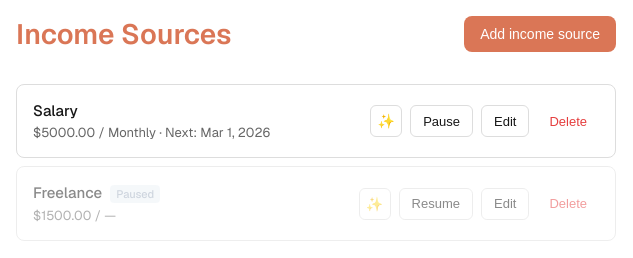
Test: IncomePage › toggles resume to pause when clicking resume button on paused source
Expected: the text "Freelance" is shown, x1=33 y1=183 x2=102 y2=202
Click the button with aria-label "Resume Freelance" at (436, 204), box x1=399 y1=188 x2=473 y2=220
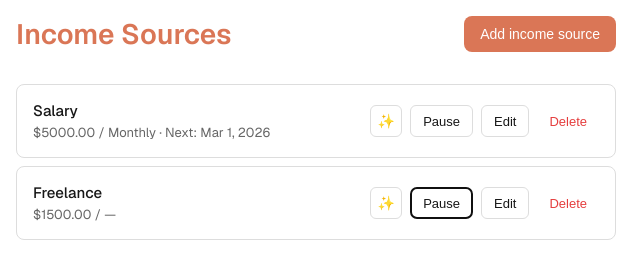
Now the button with aria-label "Pause Freelance" is shown, box x1=410 y1=187 x2=473 y2=219
